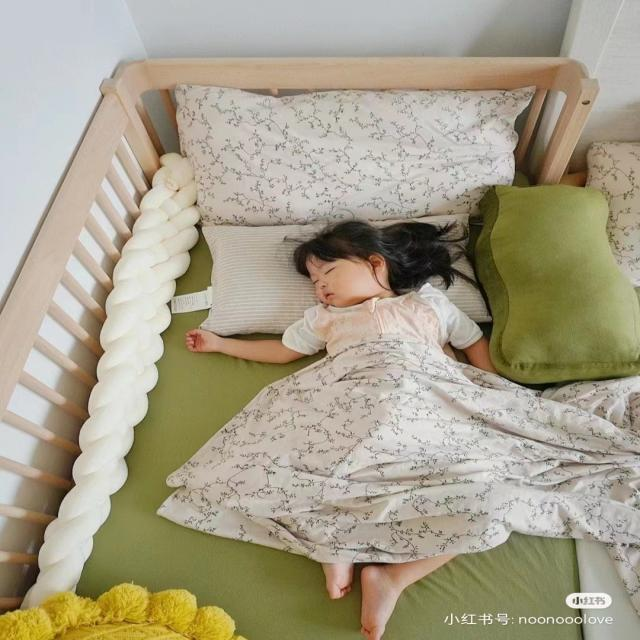baby: (185, 223, 499, 639)
